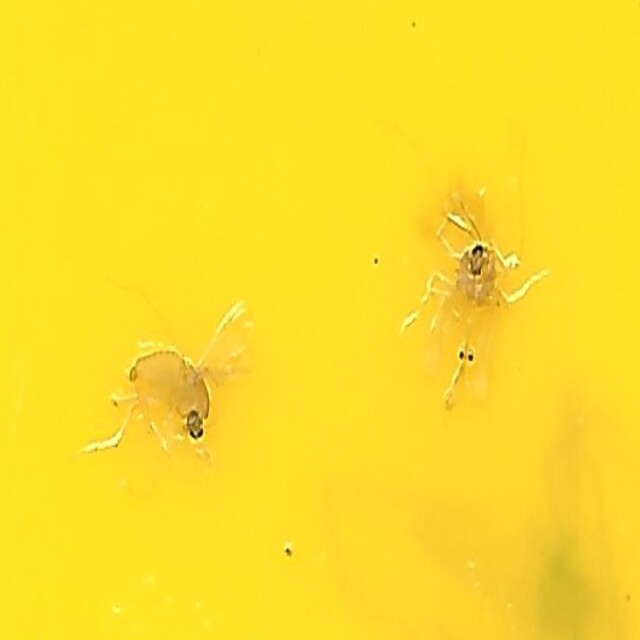Nematocera: (121, 287, 261, 449), (419, 191, 519, 413)
